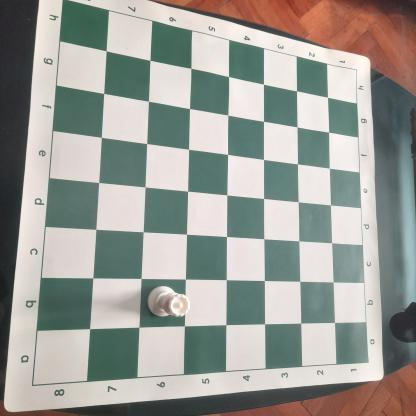white-queen: (146, 284, 190, 319)
